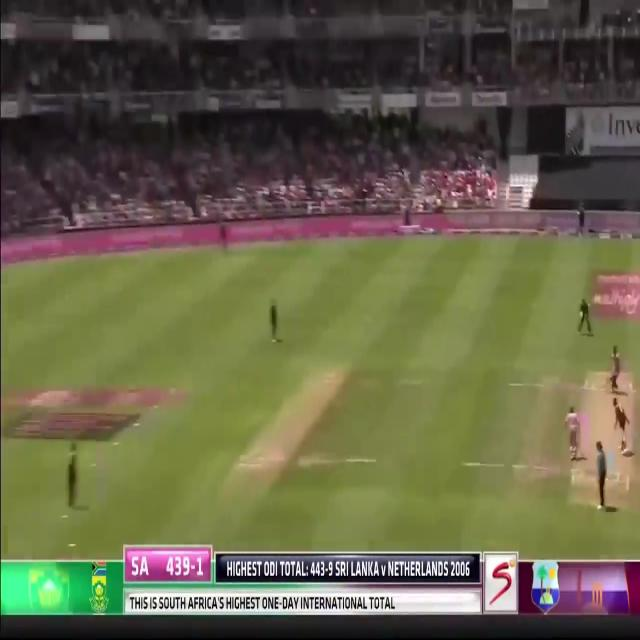Ball: (603, 341, 631, 393)
Fielder: (607, 394, 635, 450)
